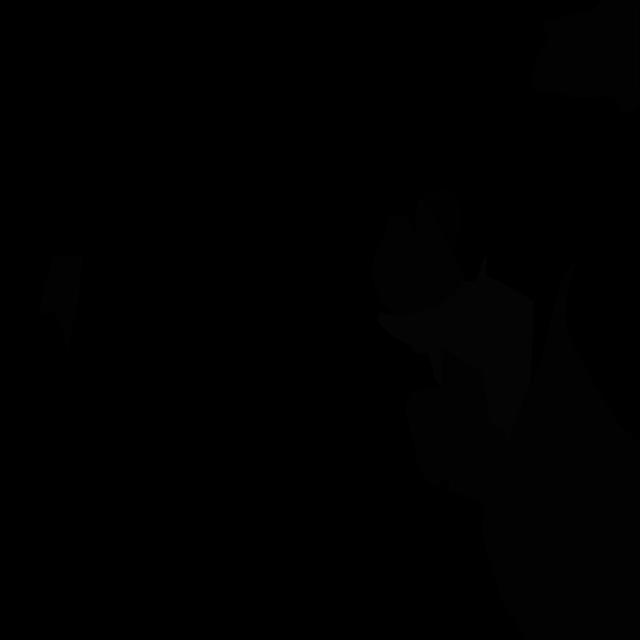cardboard: (441, 262, 640, 640), (530, 0, 640, 113), (370, 198, 465, 318), (405, 386, 450, 489), (39, 255, 83, 355)
rigid_plastic: (424, 188, 462, 252)
soft_plastic: (377, 255, 534, 444)
